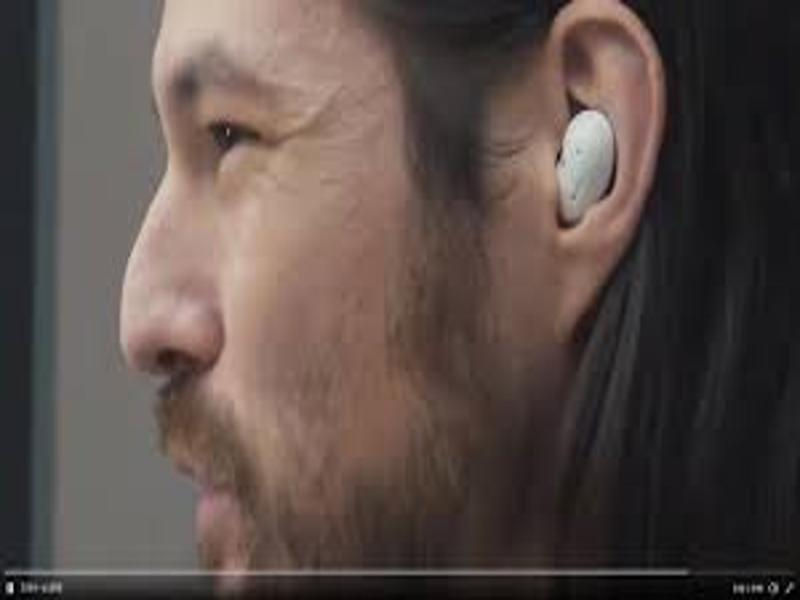headphone: (550, 106, 625, 227)
